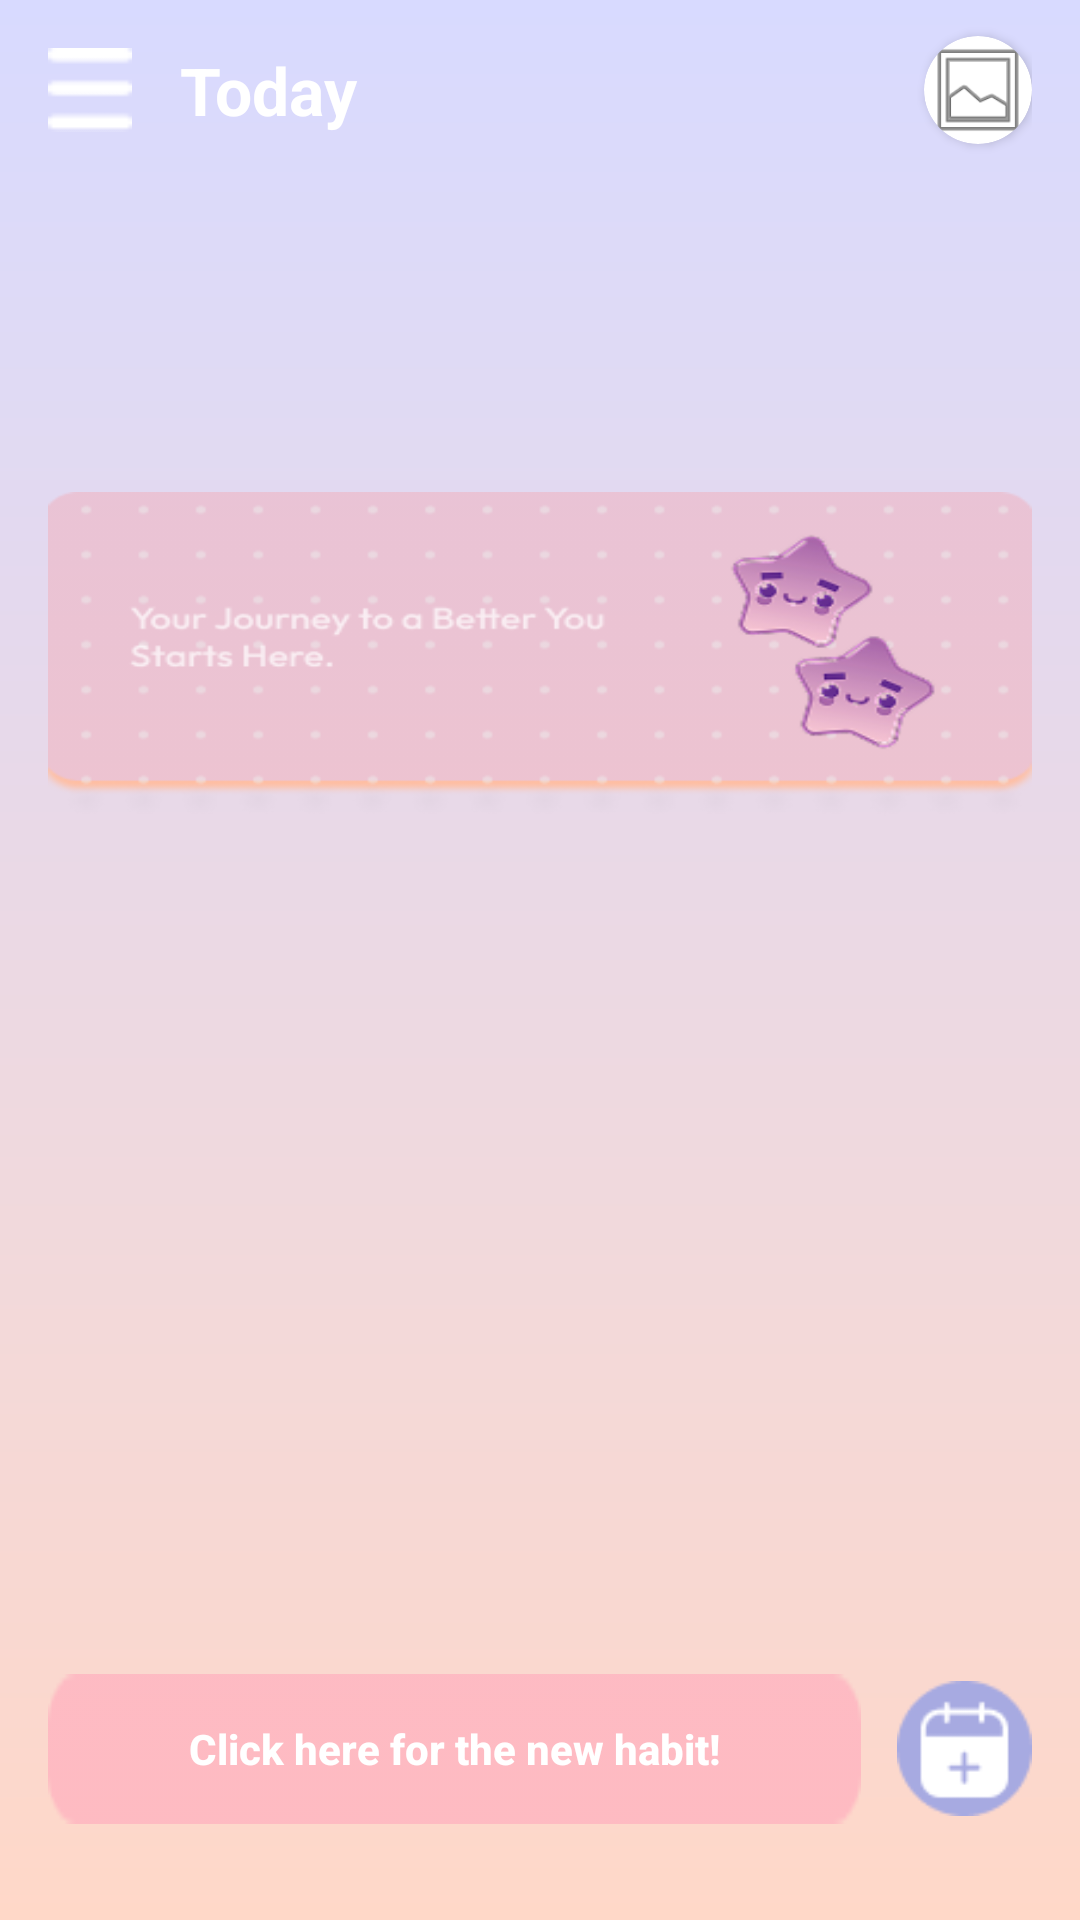

Icons on this 1080px x 1920px Android screen, each with its box as (x1, y1, x2, y2):
add circle: (897, 1681, 1032, 1816)
menu: (48, 48, 132, 128)
